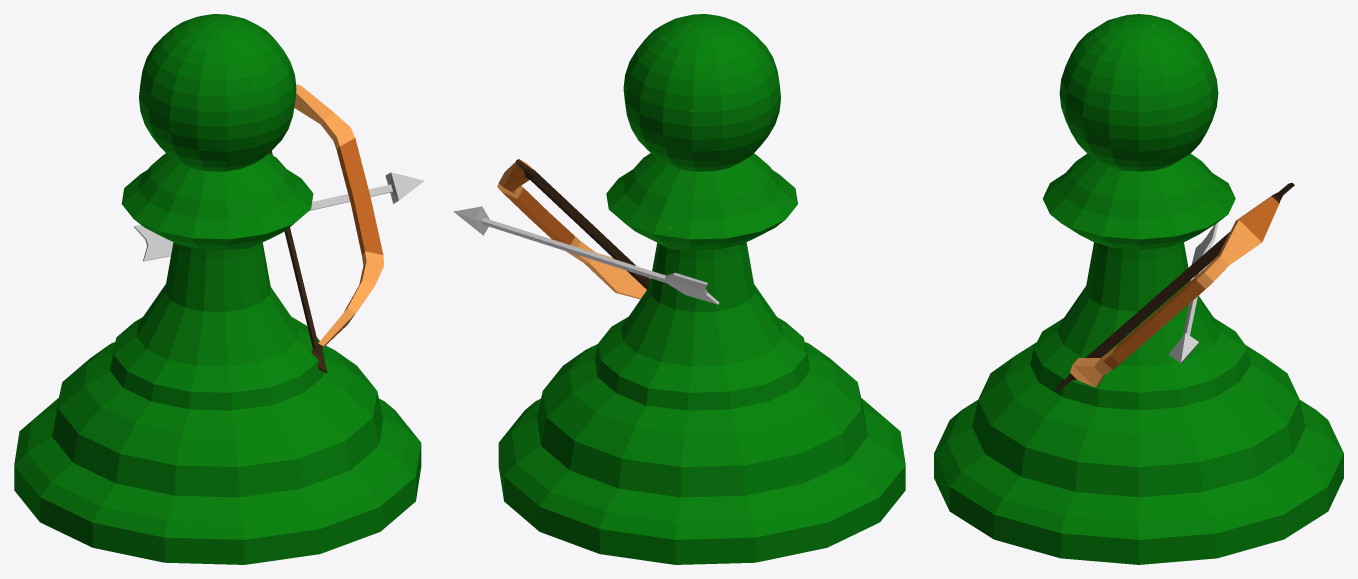
The model's file is FFThief.fbx.
3 views of the same model, side by side, from view 1: azimuth 30°, elevation 25°; view 2: azimuth 150°, elevation 25°; view 3: azimuth 270°, elevation 25° (orthographic).
Visible parts, largest first — view 1: Thief Pawn.001; view 2: Thief Pawn.001; view 3: Thief Pawn.001.
Boxes of the visible parts, box(x1,y1,x2,y2) form: Thief Pawn.001: box(14, 14, 424, 564); Thief Pawn.001: box(453, 14, 905, 564); Thief Pawn.001: box(934, 14, 1343, 564).
Bounding box in the file's own units: 470 × 537 × 578.
